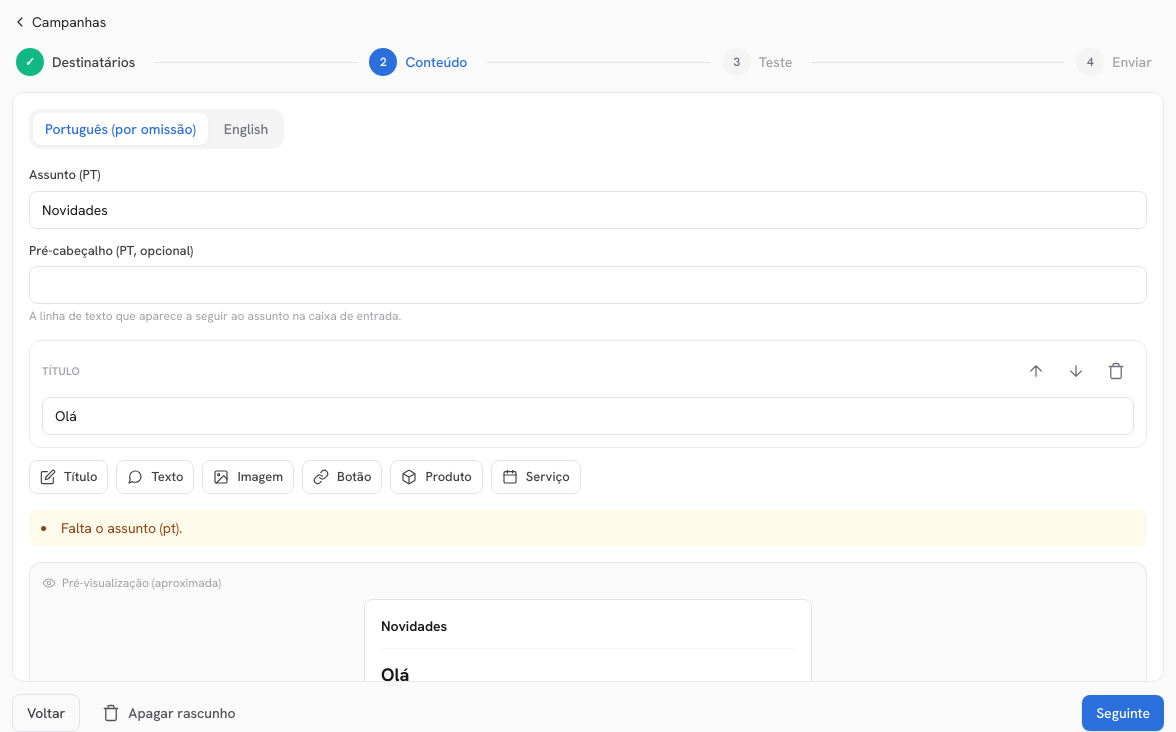
Test: Nova campanha — passo 2, conteúdo › a pré-visualização mostra o assunto e os blocos; os erros do servidor aparecem no passo
Expected: the message with test id "campaign-readiness-1" reads "Falta o assunto (pt).", [61,518,182,536]
Expected: the heading "Olá" is shown, [381,662,409,682]
Step 1. Type "Ofertas" into the field labelled "Assunto (PT)" → (588, 210), box [29,190,1147,228]
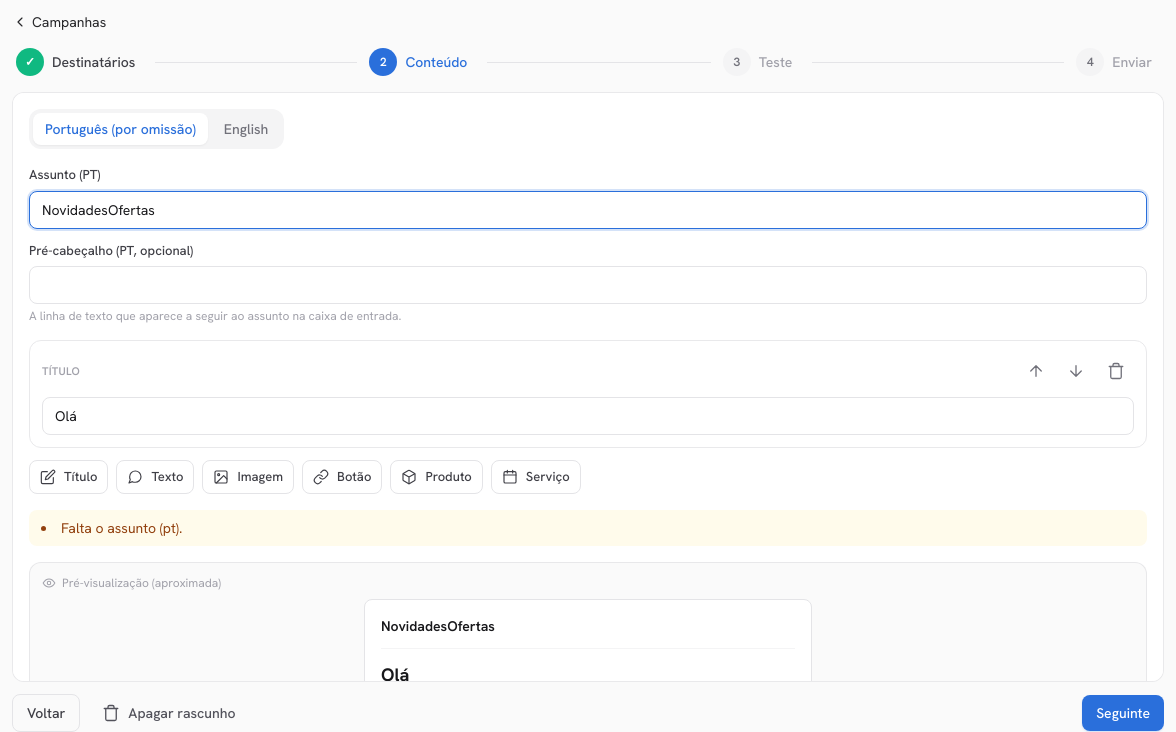
Now the text with test id "preview-subject" reads "NovidadesOfertas", box [381,616,495,634]
